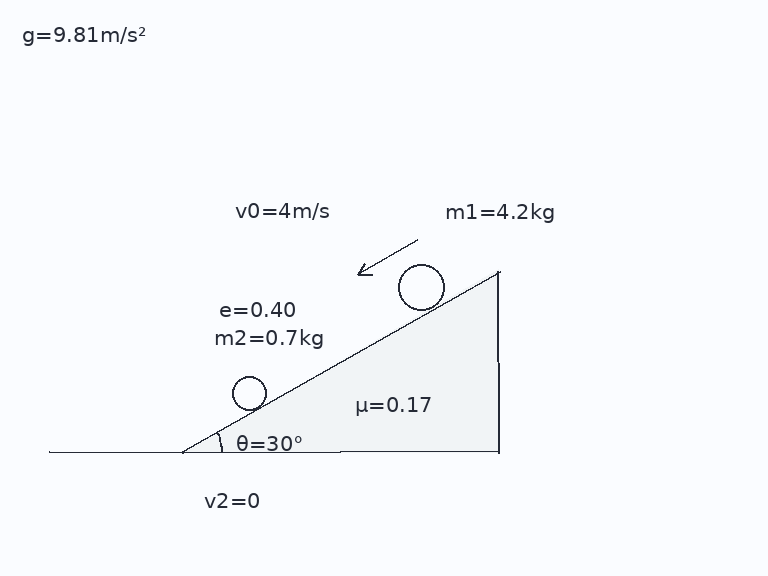ball: (396, 262, 446, 312), (230, 374, 268, 412)
ramp: (180, 267, 500, 454)
